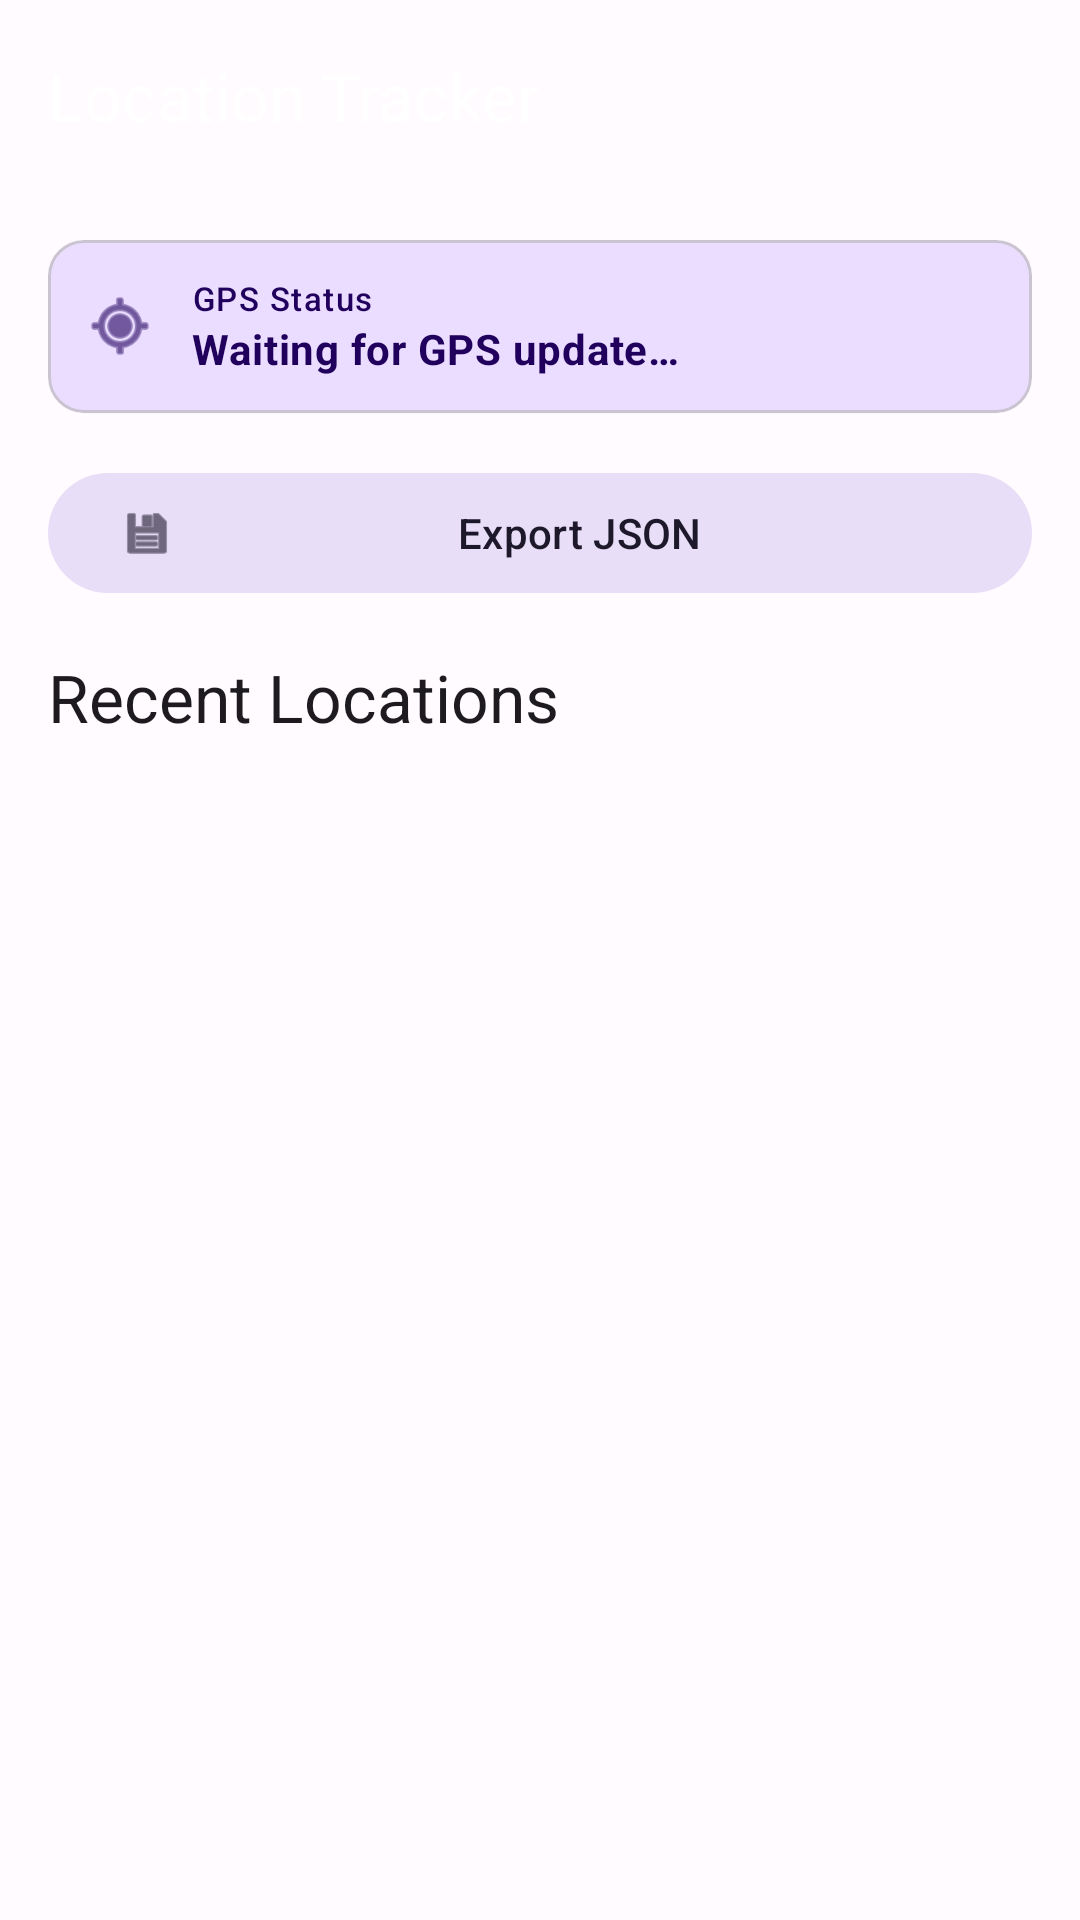

Named icons in this screenshot (1080 × 1920) and their bounding boxes, bbox=(x1, y1, x2, y2):
mylocation: bbox=(91, 297, 149, 355)
